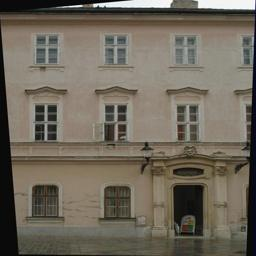building: (0, 6, 256, 235)
